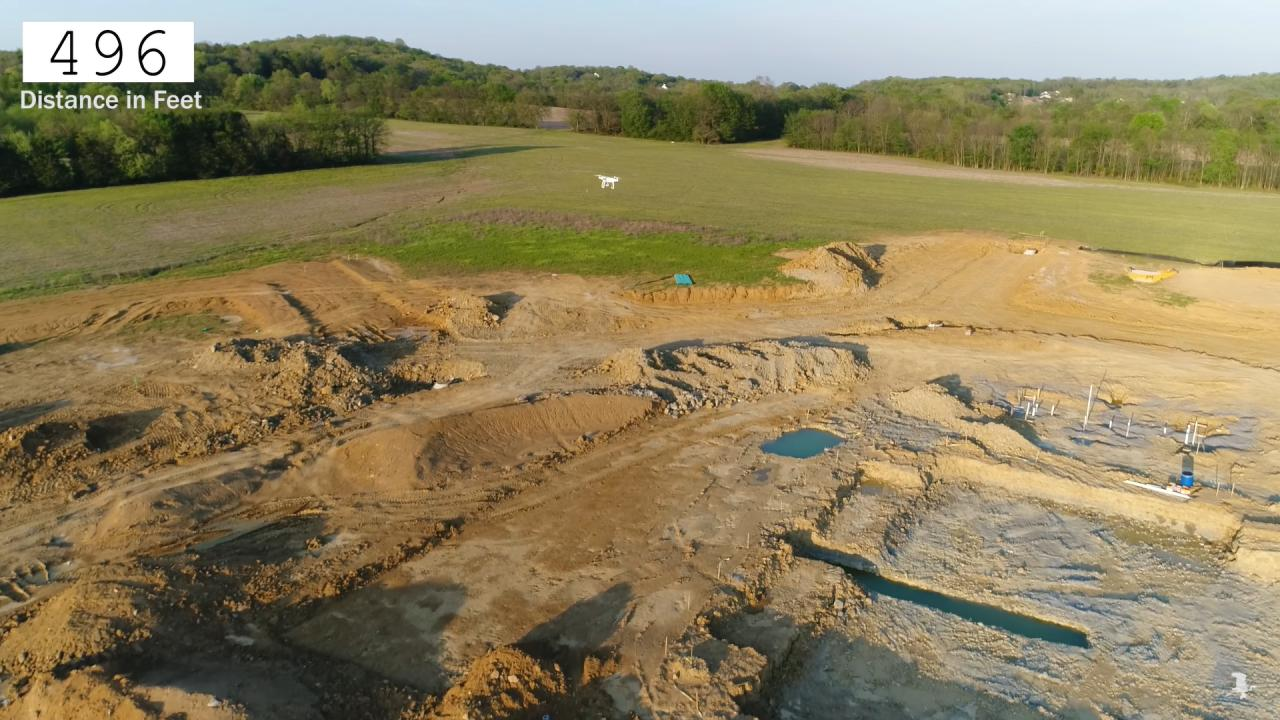Drone: (587, 167, 627, 197)
